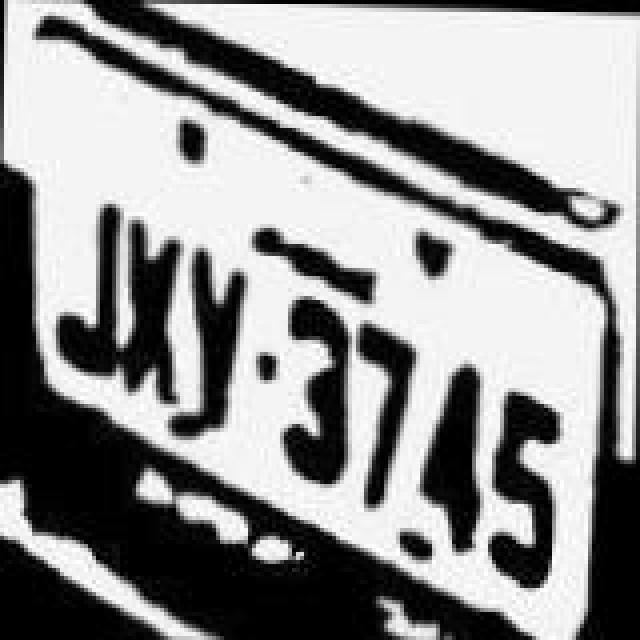3: (276, 290, 356, 494)
4: (420, 328, 492, 552)
5: (484, 340, 564, 592)
7: (354, 300, 422, 520)
J: (50, 192, 122, 388)
V: (184, 244, 244, 436)
X: (116, 220, 184, 412)
